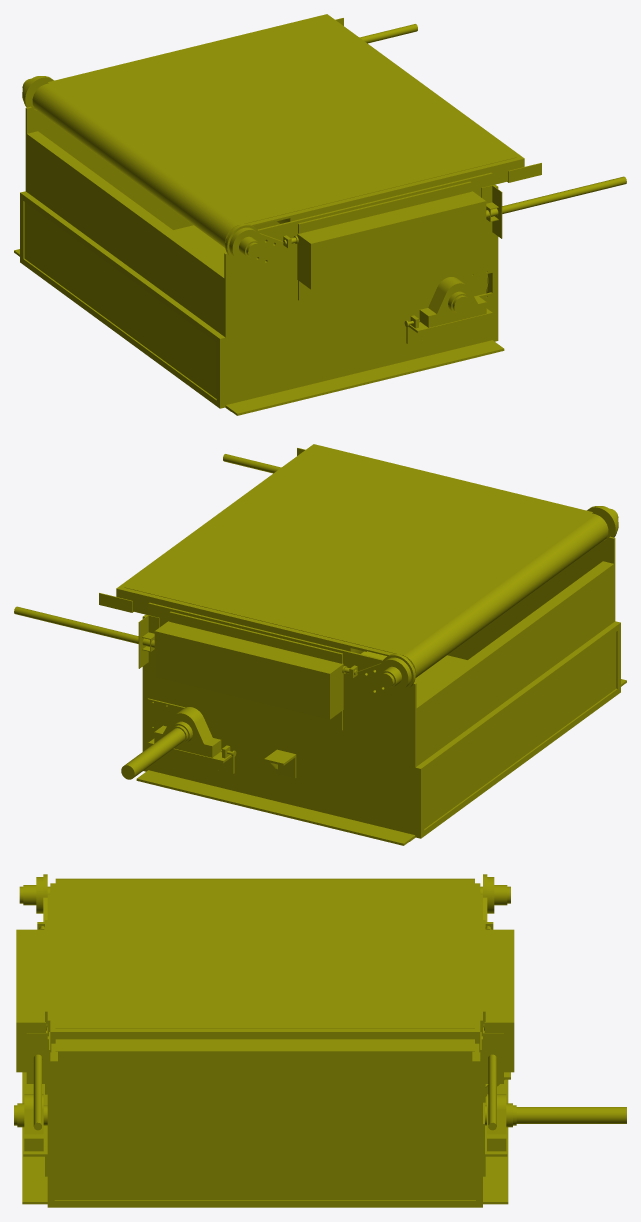
Rendered from DRI-02-60.fbx.
3 renders of one model, top to bottom at view 1: azimuth 30°, elevation 25°; view 2: azimuth 150°, elevation 25°; view 3: azimuth 270°, elevation 25°, orthographic. The views are drawn at different scales.
Parts seen in each view (by area): view 1: FRAME:1; view 2: FRAME:1; view 3: FRAME:1.
Part boxes in pixels (<box>): FRAME:1: <box>14,14,626,415</box>; FRAME:1: <box>14,444,626,845</box>; FRAME:1: <box>14,874,626,1207</box>.
Bounding box in the file's own units: 72 × 87.66 × 31.78.
